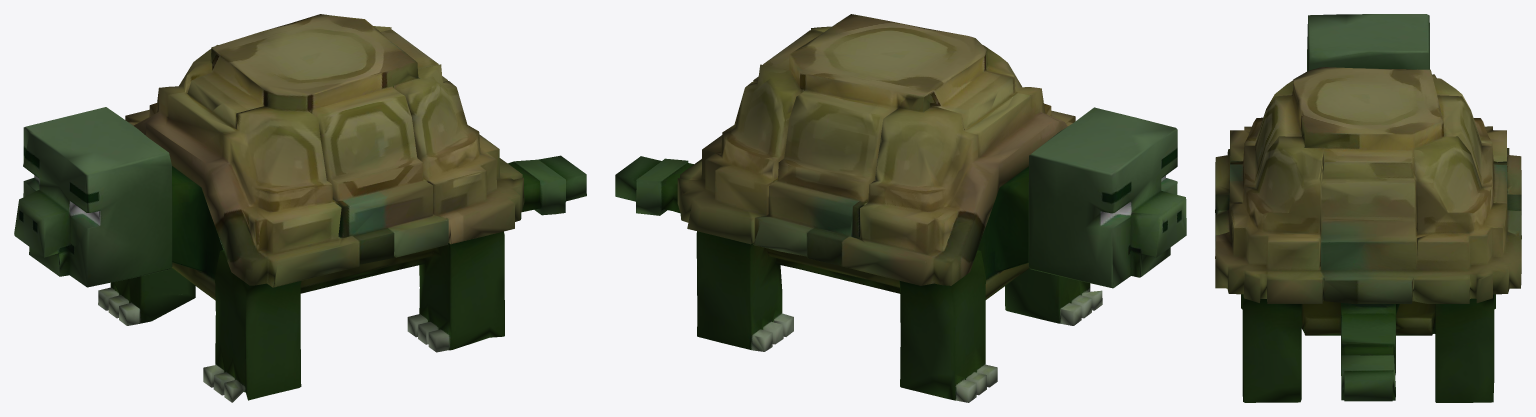
The model's file is turtle.glb.
The picture shows the model from 3 angles, left to right: view 1: azimuth 30°, elevation 25°; view 2: azimuth 150°, elevation 25°; view 3: azimuth 270°, elevation 25°; orthographic projection. The views are drawn at different scales.
Parts seen in each view (by area): view 1: Mesh::generatedModels/oCQN3C3hZwBLk5liXOHd.gltf; view 2: Mesh::generatedModels/oCQN3C3hZwBLk5liXOHd.gltf; view 3: Mesh::generatedModels/oCQN3C3hZwBLk5liXOHd.gltf.
Boxes of the visible parts, left/top/right/bottom form: Mesh::generatedModels/oCQN3C3hZwBLk5liXOHd.gltf: left=14, top=14, right=586, bottom=402; Mesh::generatedModels/oCQN3C3hZwBLk5liXOHd.gltf: left=615, top=14, right=1186, bottom=402; Mesh::generatedModels/oCQN3C3hZwBLk5liXOHd.gltf: left=1215, top=14, right=1521, bottom=402.
Bounding box in the file's own units: 1 × 0.4627 × 0.522.
Materials: 1 (1 with a texture image).
